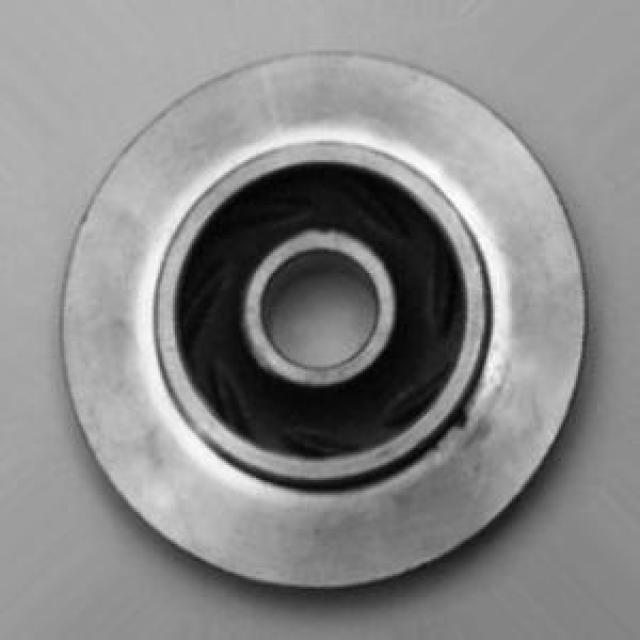Defect: (450, 403, 475, 442)
